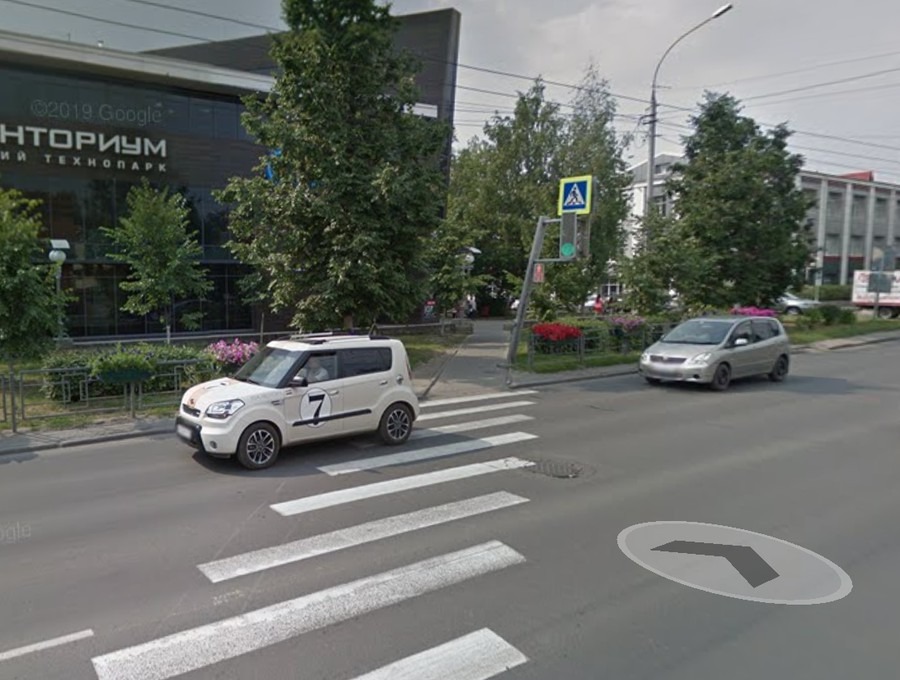Traffic Light-red: (532, 262, 548, 289)
